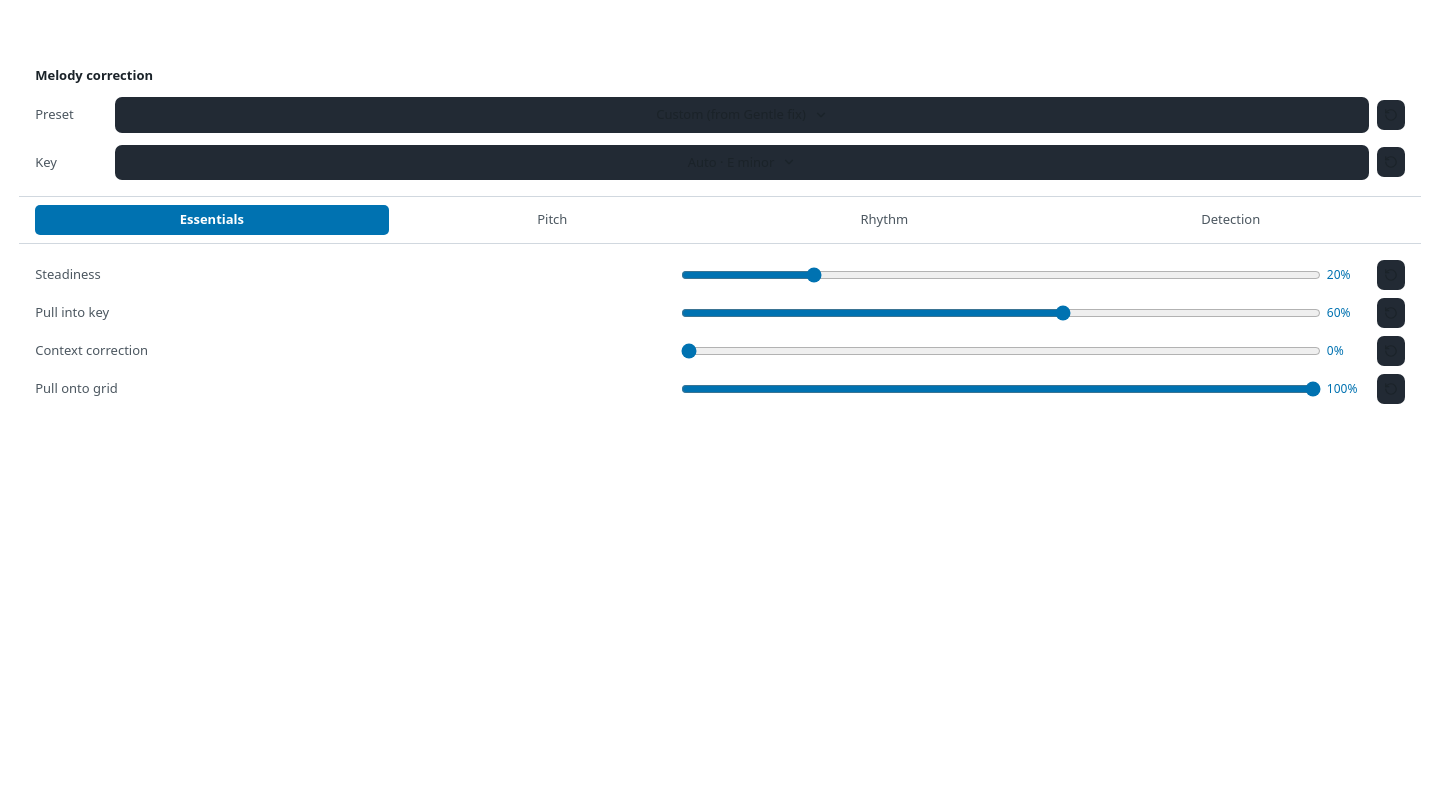
Test case: reveals presets and tuning groups only when requested
expect the button "Use Clean" is not shown: met
expect the field labelled "Minimum note length" is not shown: met
Click the button "Detection": (1231, 220) [1057,205,1405,235]
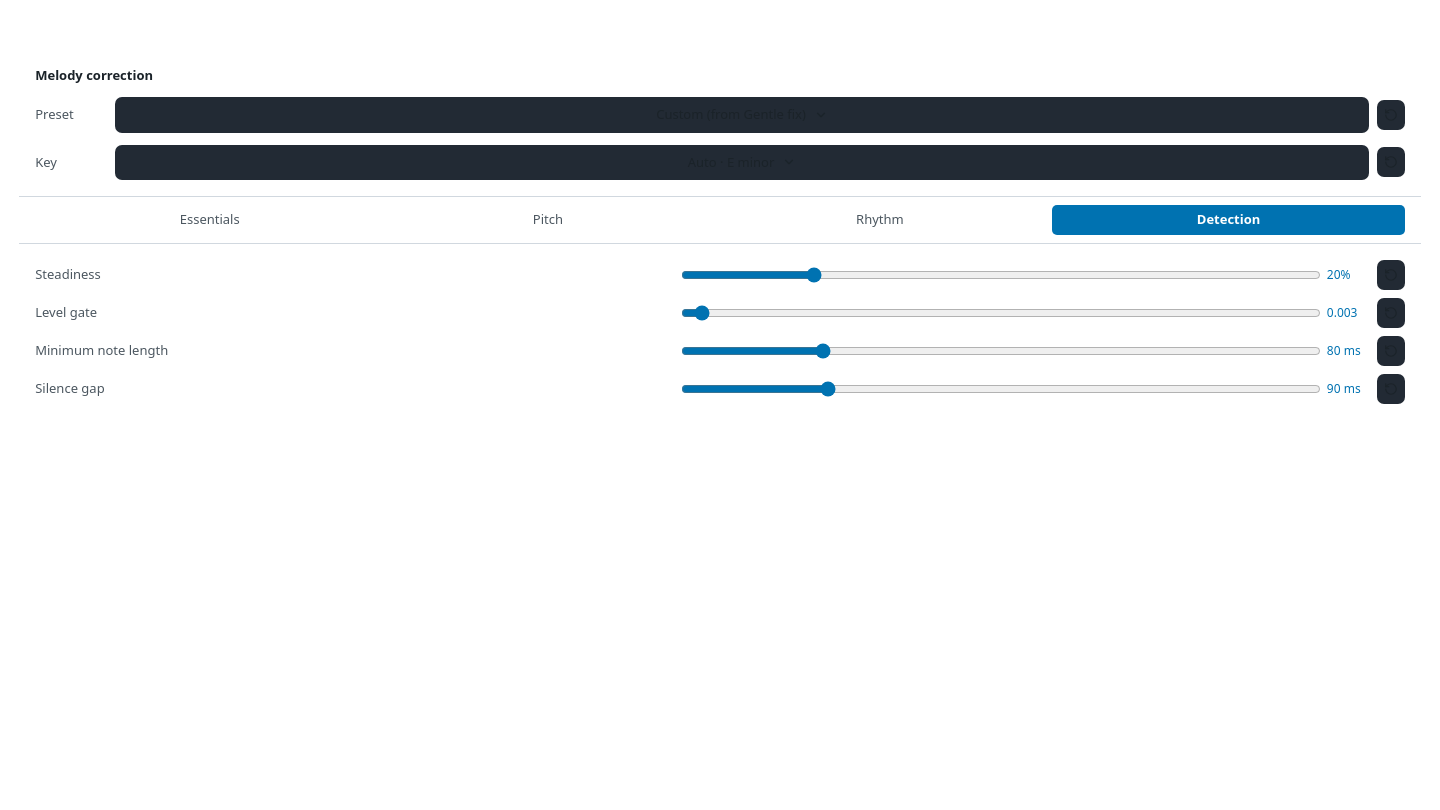
expect the slider labelled "Minimum note length" is shown: met, box [681,339,1321,363]
Click the button "Rhythm": (880, 220) [712,205,1048,235]
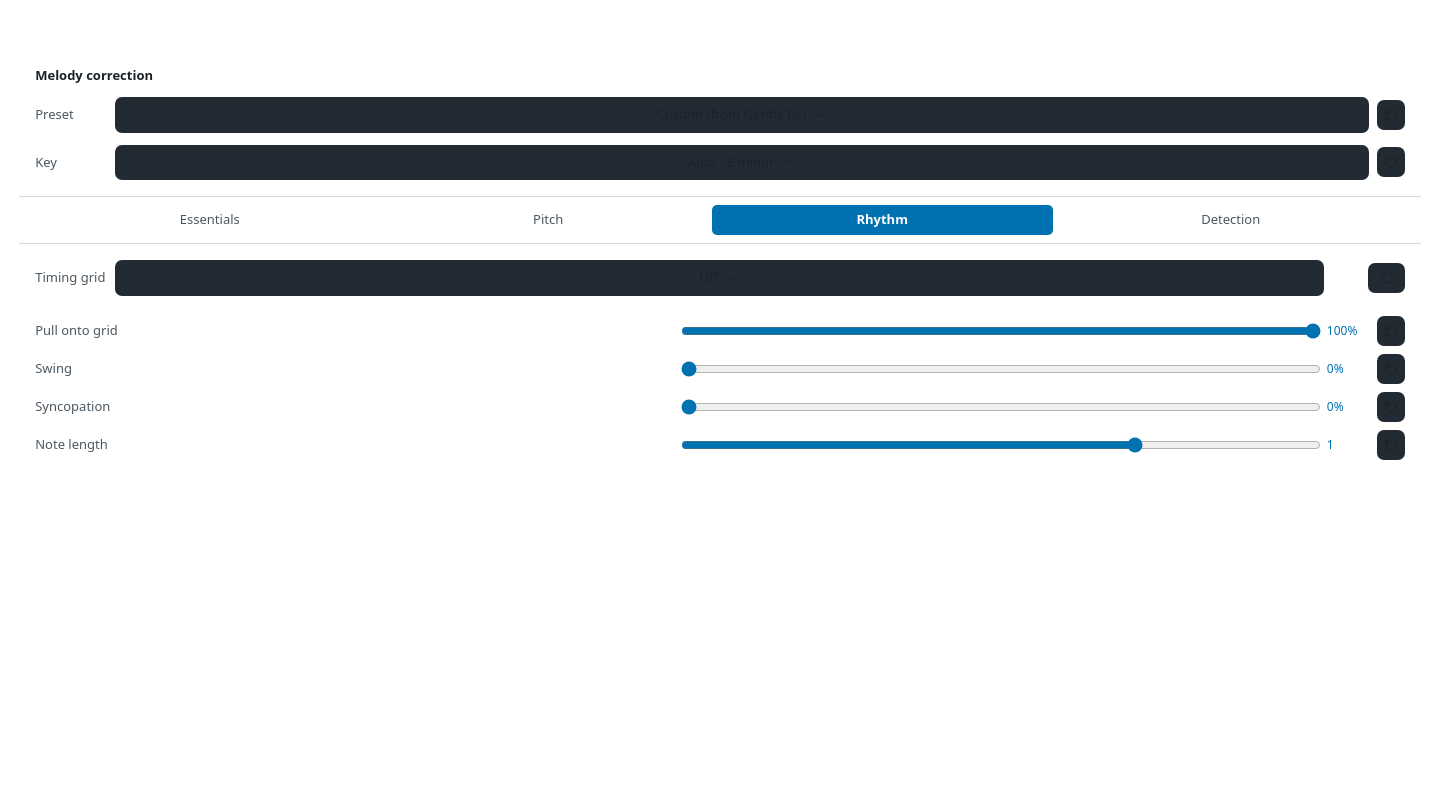
expect the button with aria-label "Choose timing grid" is shown: met, box [115,260,1324,296]
Click the button "Custom (from Gentle fix)": (742, 115) [115,97,1369,133]
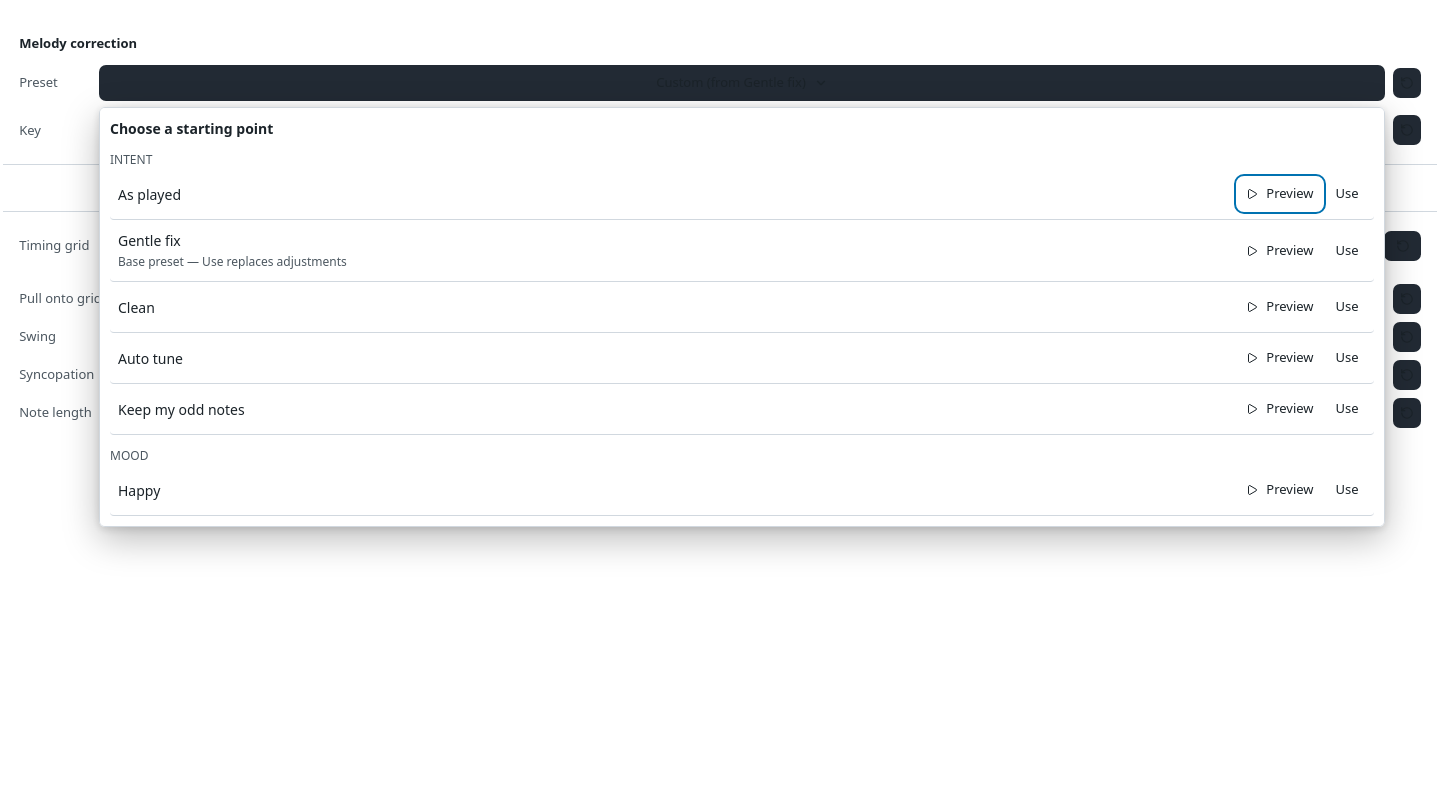
expect the button with aria-label "Use Gentle fix" is shown: met, box [1329,236,1366,266]
expect the button with aria-label "Use Clean" is shown: met, box [1329,292,1366,322]
expect the button with aria-label "Use Auto tune" is shown: met, box [1329,343,1366,373]
